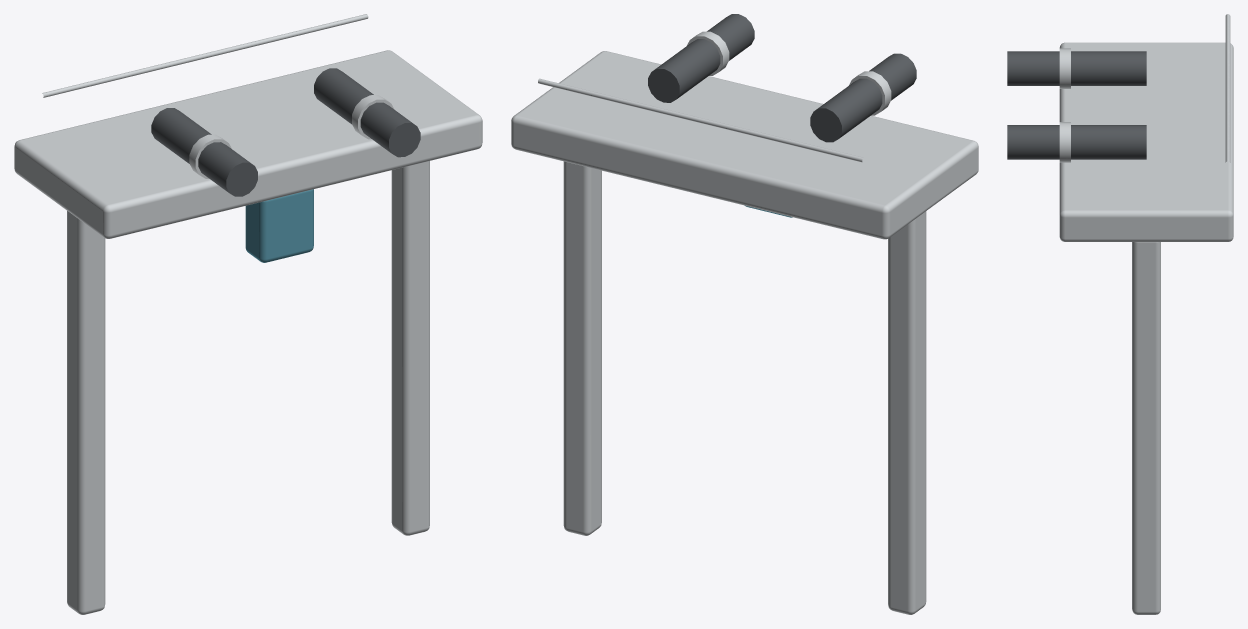
Rendered from geotechnical-soil-testing-laboratory-specimen-trimming-131df032__39033.glb.
The picture shows the model from 3 angles, left to right: view 1: azimuth 30°, elevation 25°; view 2: azimuth 150°, elevation 25°; view 3: azimuth 270°, elevation 25°; orthographic projection. The views are drawn at different scales.
Parts seen in each view (by area): view 1: specimen-trimming-lathe; view 2: specimen-trimming-lathe; view 3: specimen-trimming-lathe.
Part boxes in pixels (bbox=[...]): specimen-trimming-lathe: bbox=[14, 14, 482, 614]; specimen-trimming-lathe: bbox=[511, 14, 978, 614]; specimen-trimming-lathe: bbox=[1007, 14, 1233, 614].
Size of the model in its own units: 0.7 by 0.855 by 0.39.
